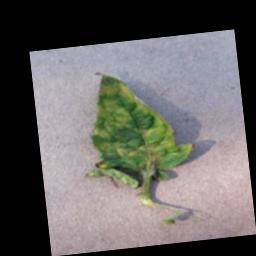Leaf_Mold: (83, 66, 197, 191)
